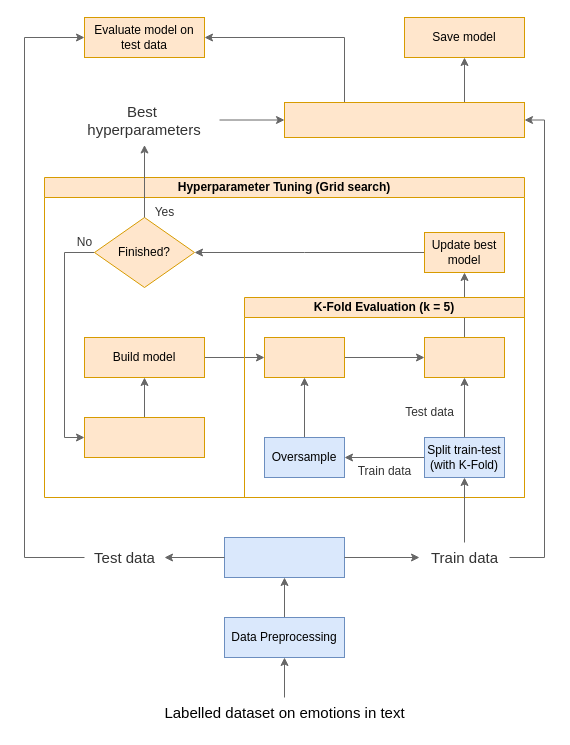
This 570x745 diagram has some shape labels left out. Here are the shapes that lost their labels. From the top down, the centre of each, then its label:
pixel 404 120: Build and fit model on entire training data set
pixel 304 357: Fit model
pixel 464 357: Evaluate model
pixel 144 437: Select hyperparameter
pixel 284 557: Split train-test data
